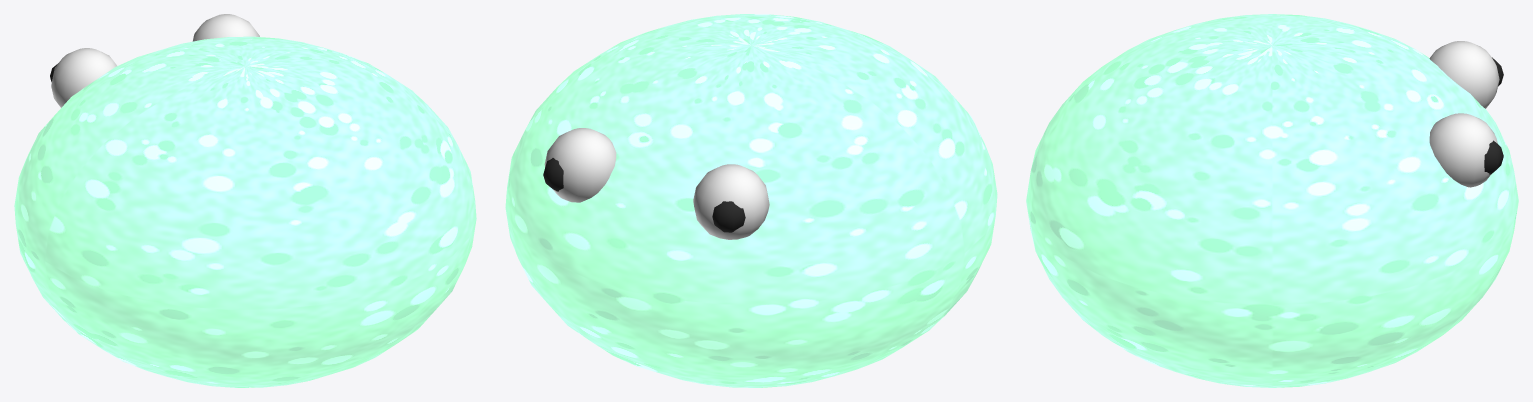
Rendered from cave-jelly.glb.
3 views of the same model, side by side, from view 1: azimuth 30°, elevation 25°; view 2: azimuth 150°, elevation 25°; view 3: azimuth 270°, elevation 25° (orthographic). The views are drawn at different scales.
Visible parts, largest first — view 1: Body, Eye, Eye.001; view 2: Body, Eye, Eye.001, Pupil, Pupil.001; view 3: Body, Eye.001, Eye, Pupil.001.
Boxes of the visible parts, box(x1,y1,x2,y2) form: Body: box(14, 36, 476, 387); Eye: box(51, 48, 116, 107); Eye.001: box(192, 14, 259, 41); Body: box(505, 14, 997, 387); Eye: box(693, 164, 769, 239); Eye.001: box(544, 128, 616, 202); Pupil: box(712, 201, 745, 232); Pupil.001: box(543, 158, 563, 191); Body: box(1026, 14, 1518, 387); Eye.001: box(1429, 113, 1497, 187); Eye: box(1429, 41, 1499, 108); Pupil.001: box(1484, 140, 1503, 174).
Bounding box in the file's own units: 1.44 × 1 × 1.44.
Materials: 3 (1 with a texture image).
